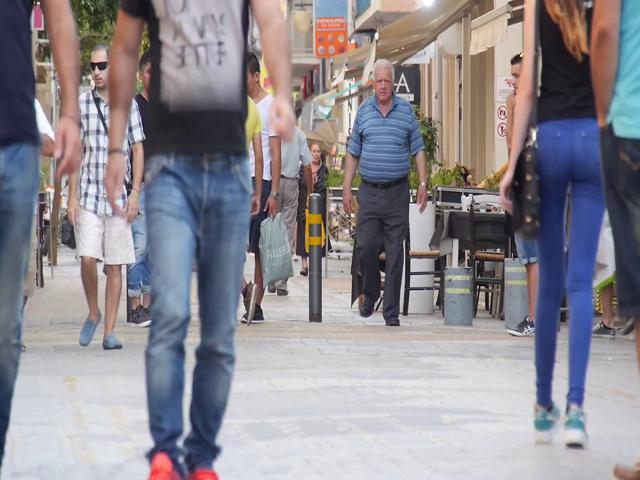shoe: (534, 404, 560, 444), (564, 407, 589, 447), (79, 308, 101, 346), (508, 316, 536, 336), (244, 282, 257, 325), (127, 305, 152, 327), (360, 293, 379, 317), (592, 319, 615, 338), (103, 335, 123, 349), (385, 315, 401, 326)
